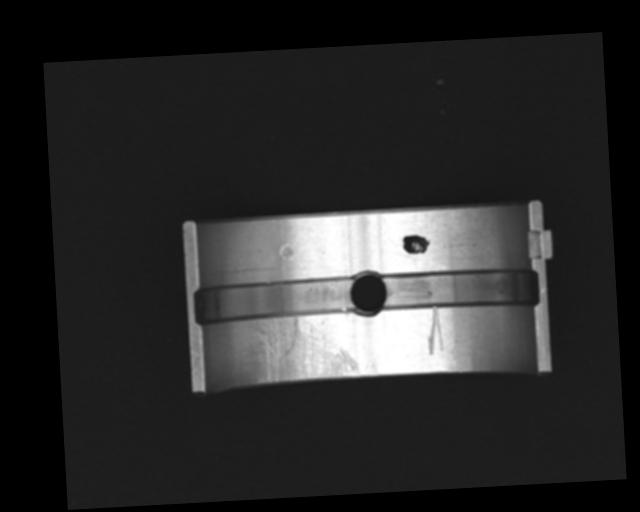blot: (402, 232, 432, 254)
bruise: (279, 243, 294, 261)
gap: (192, 276, 356, 326), (383, 266, 539, 312)
hole: (349, 269, 388, 317)
nick: (424, 304, 445, 355)
scratch: (250, 311, 360, 385)
